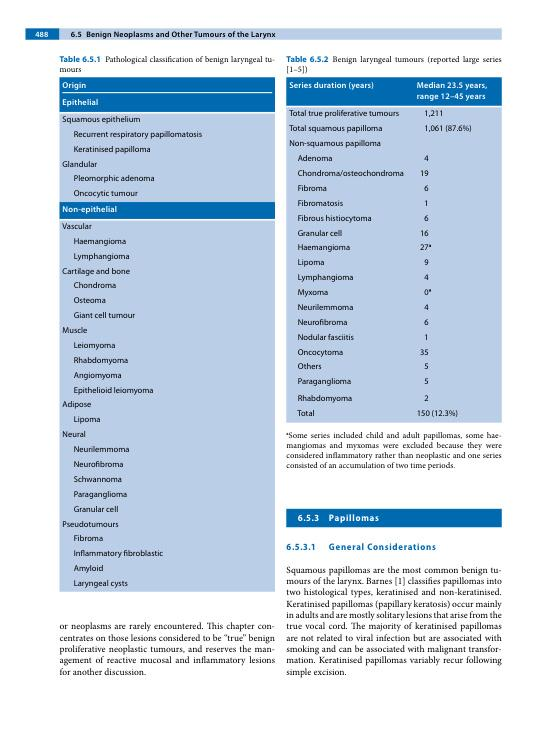caption: (285, 54, 503, 75), (59, 55, 276, 73)
header: (85, 30, 276, 39)
section-heading: (328, 513, 380, 525)
sub-section-heading: (328, 542, 436, 552)
table: (58, 76, 275, 593), (286, 76, 502, 472)
text: (285, 564, 504, 680), (57, 620, 277, 677)
